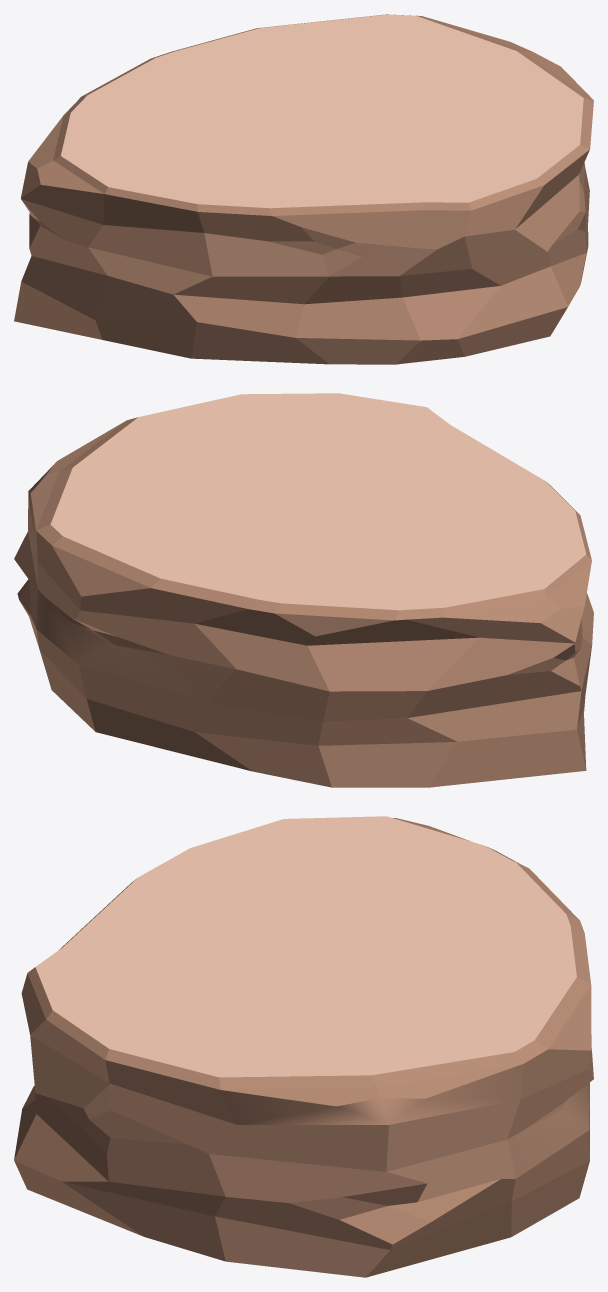
The model's file is extrasmall_rock (2).fbx.
3 views of the same model, one above another, from view 1: azimuth 30°, elevation 25°; view 2: azimuth 150°, elevation 25°; view 3: azimuth 270°, elevation 25° (orthographic). The views are drawn at different scales.
Parts seen in each view (by area): view 1: Xsmall_Rock_form_1.001; view 2: Xsmall_Rock_form_1.001; view 3: Xsmall_Rock_form_1.001.
Part boxes in pixels (x1,y1,x2,y2): Xsmall_Rock_form_1.001: [14, 14, 593, 364]; Xsmall_Rock_form_1.001: [14, 393, 593, 787]; Xsmall_Rock_form_1.001: [14, 816, 593, 1277].
Bounding box in the file's own units: 671 × 191 × 533.
